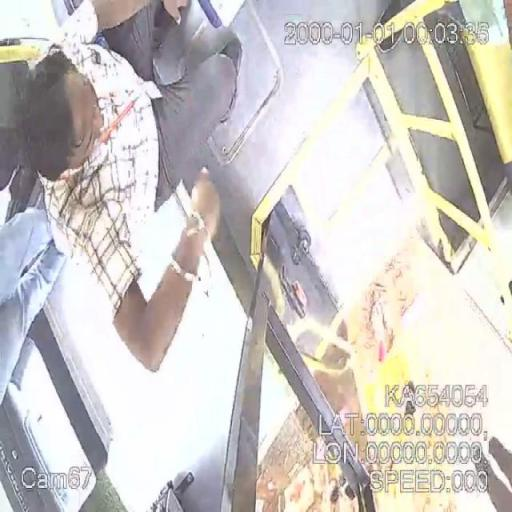persona: (0, 1, 246, 376)
